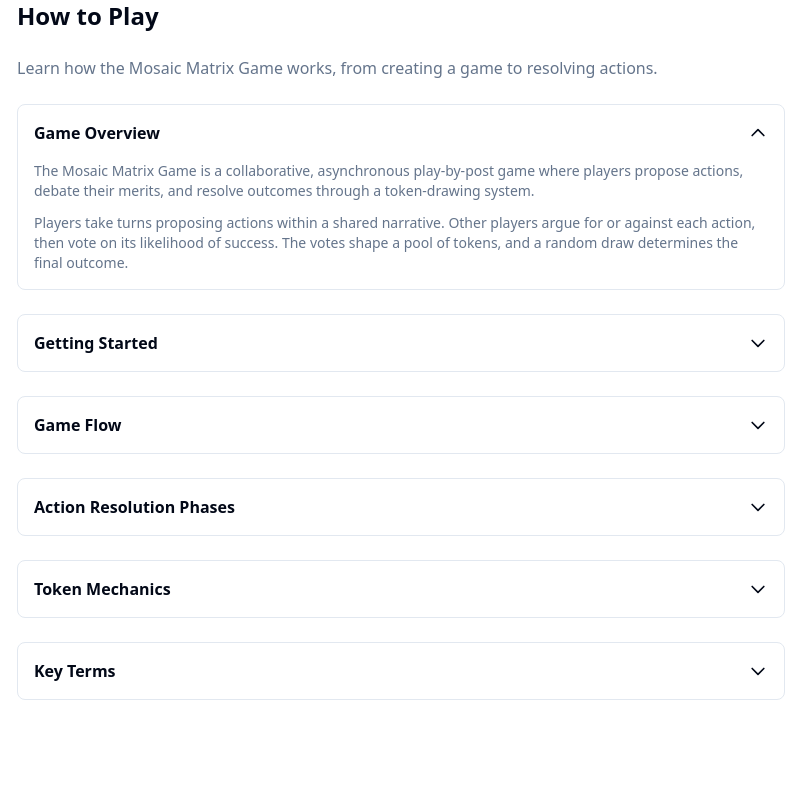
Test: Help Page › should display key terms when section is opened
Click the button "Key Terms": (75, 671) [18,643,784,699]
(page scrolled)
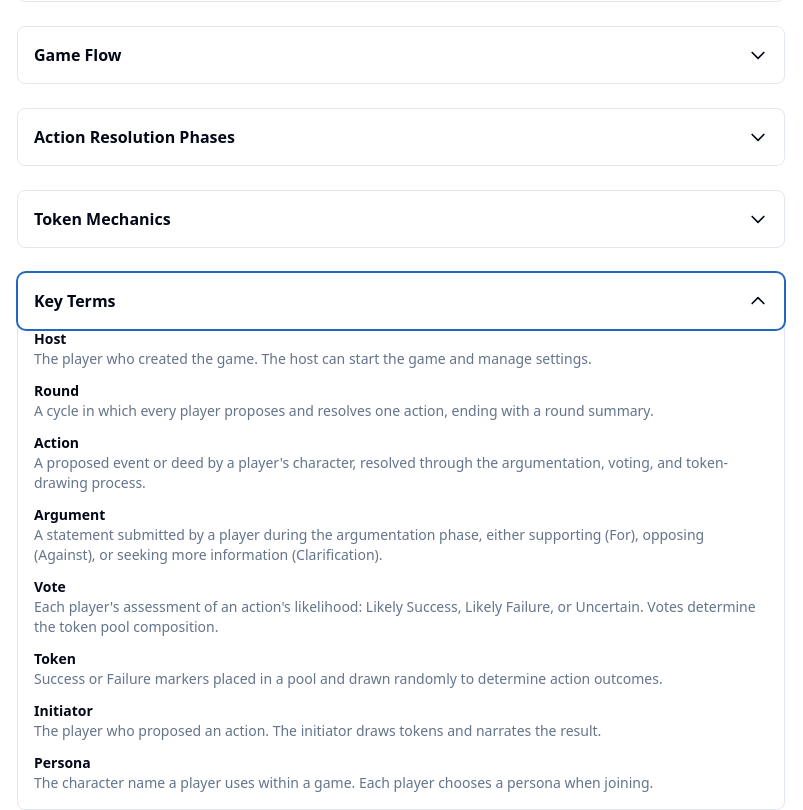
Now the text "Host" is shown, box [34,329,66,348]
Now the text "Round" is shown, box [34,381,79,400]
Now the text "Action" is shown, box [34,433,79,452]
